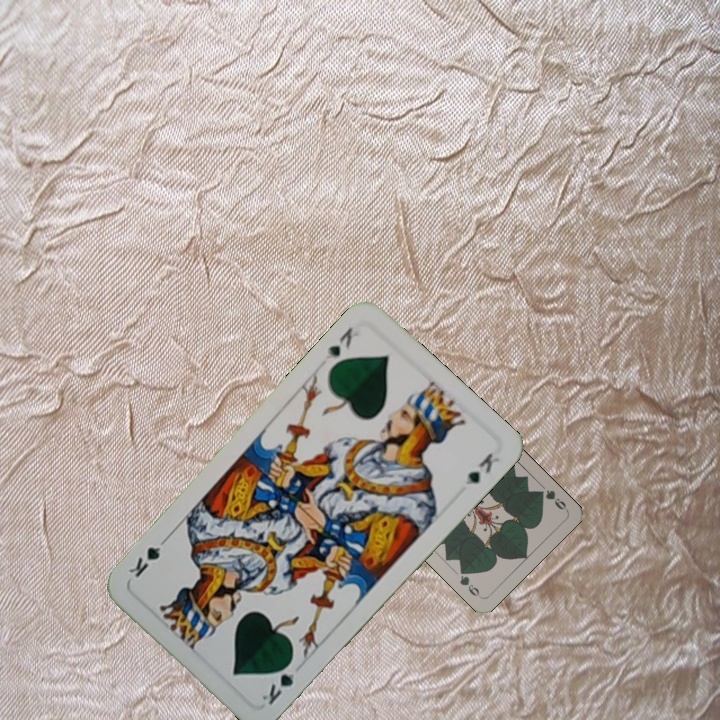G9: (532, 485, 570, 513)
GK: (257, 655, 297, 708), (321, 323, 356, 362)
